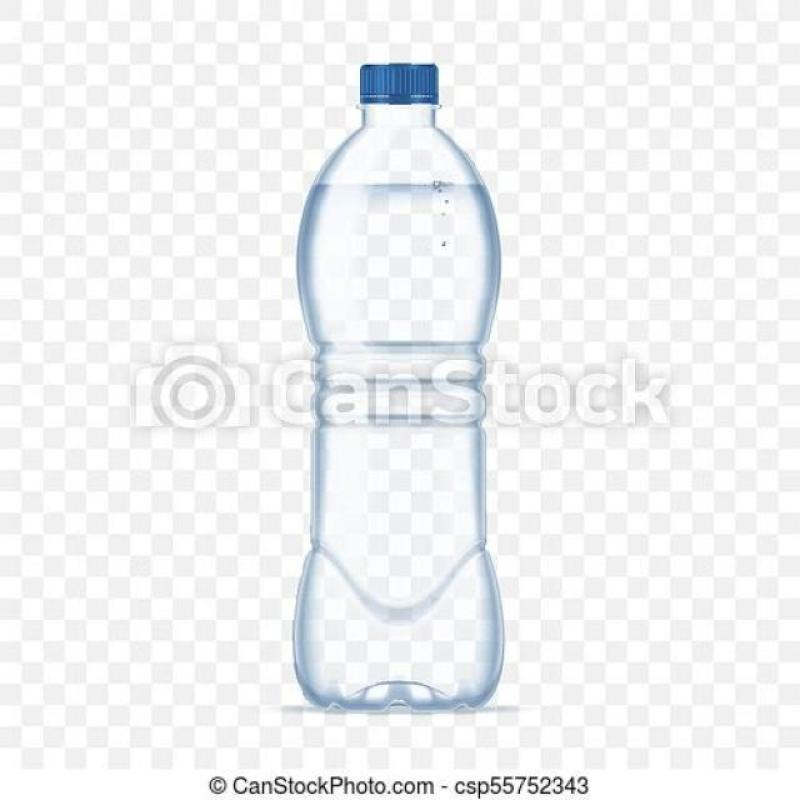botella: (294, 62, 507, 712)
